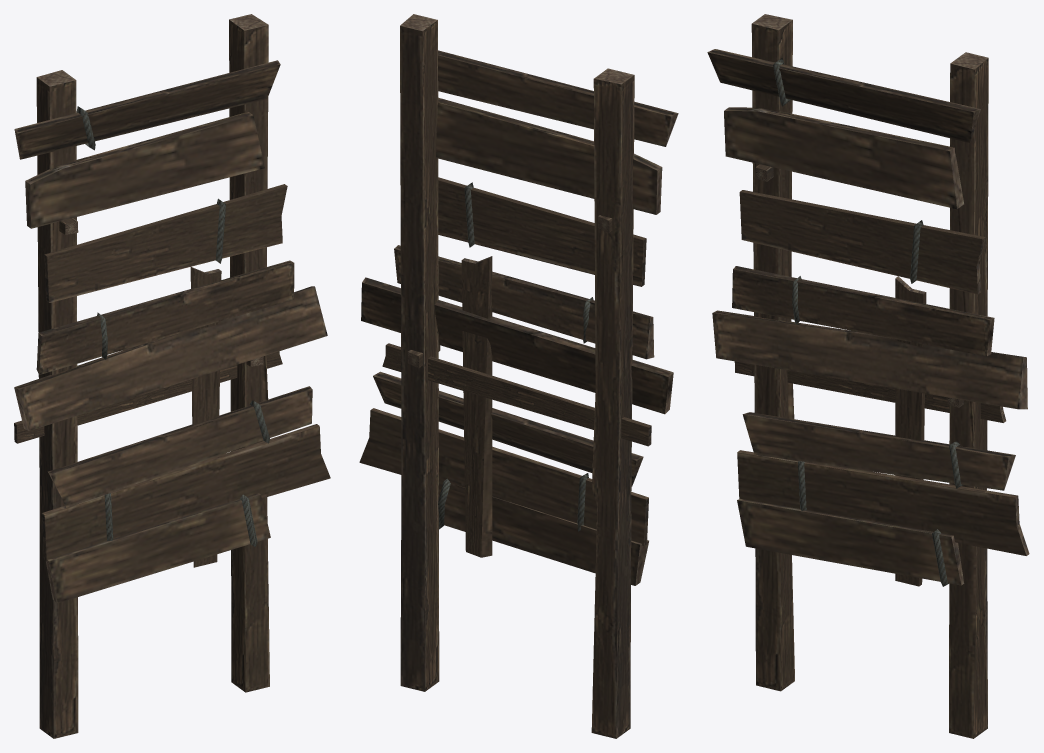
File: Wood4.fbx
3 views of the same model, side by side, from view 1: azimuth 30°, elevation 25°; view 2: azimuth 150°, elevation 25°; view 3: azimuth 330°, elevation 25° (orthographic).
Parts seen in each view (by area): view 1: Wood4; view 2: Wood4; view 3: Wood4.
Part boxes in pixels (x1,y1,x2,y2): Wood4: [14, 14, 330, 738]; Wood4: [359, 14, 678, 738]; Wood4: [707, 14, 1029, 738].
Size of the model in its own units: 304 by 610 by 46.32.
